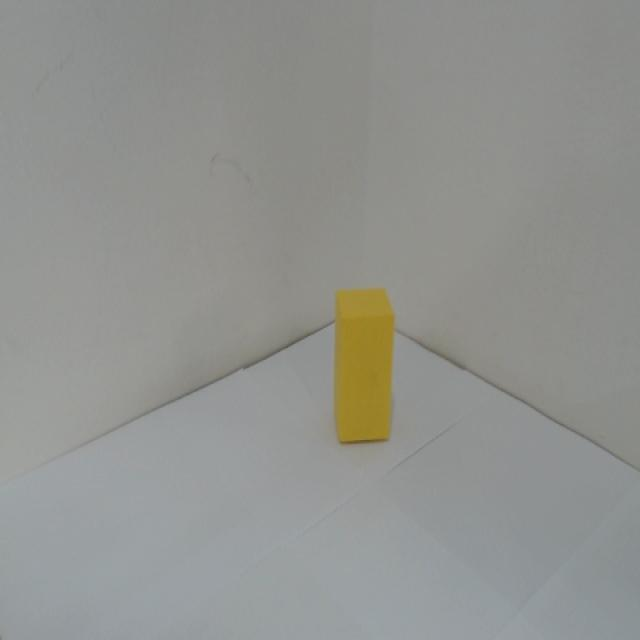cube: (327, 283, 400, 447)
